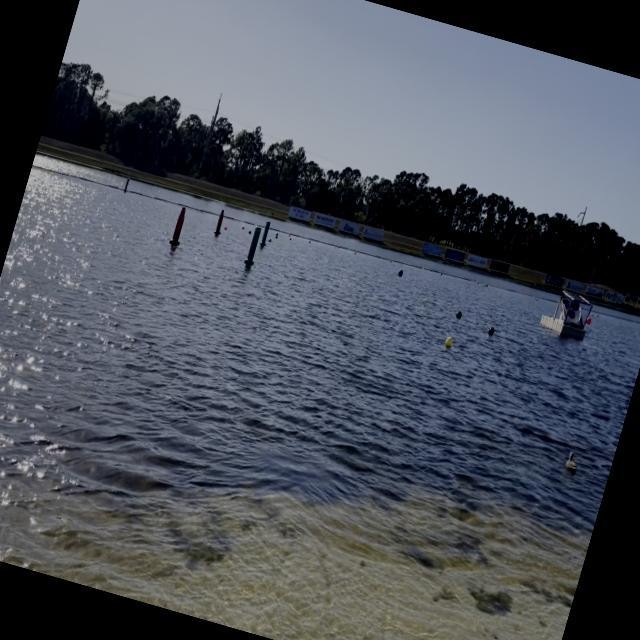buoy: (444, 334, 453, 346), (487, 326, 494, 336), (455, 310, 462, 318), (396, 269, 402, 276), (224, 224, 228, 230), (268, 238, 272, 242)
